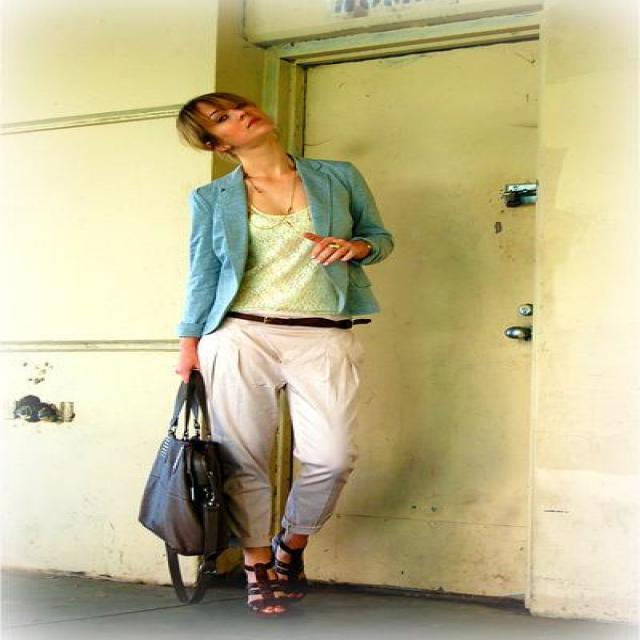bag: (138, 371, 243, 587)
jacket: (179, 158, 395, 337)
pants: (198, 320, 358, 549)
shirt: (211, 206, 346, 332)
shoe: (227, 556, 306, 618)
